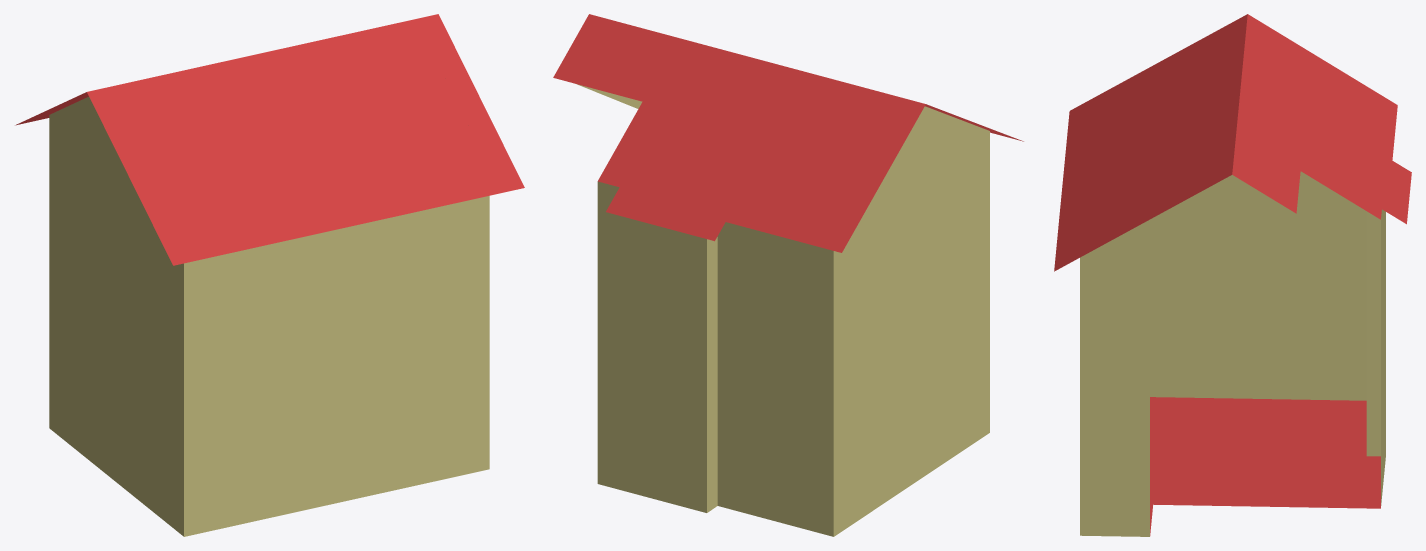
3 views of the same model, side by side, from view 1: azimuth 30°, elevation 25°; view 2: azimuth 150°, elevation 25°; view 3: azimuth 270°, elevation 25° (orthographic). The views are drawn at different scales.
Bounding box in the file's own units: 11.74 × 10.76 × 12.42.
